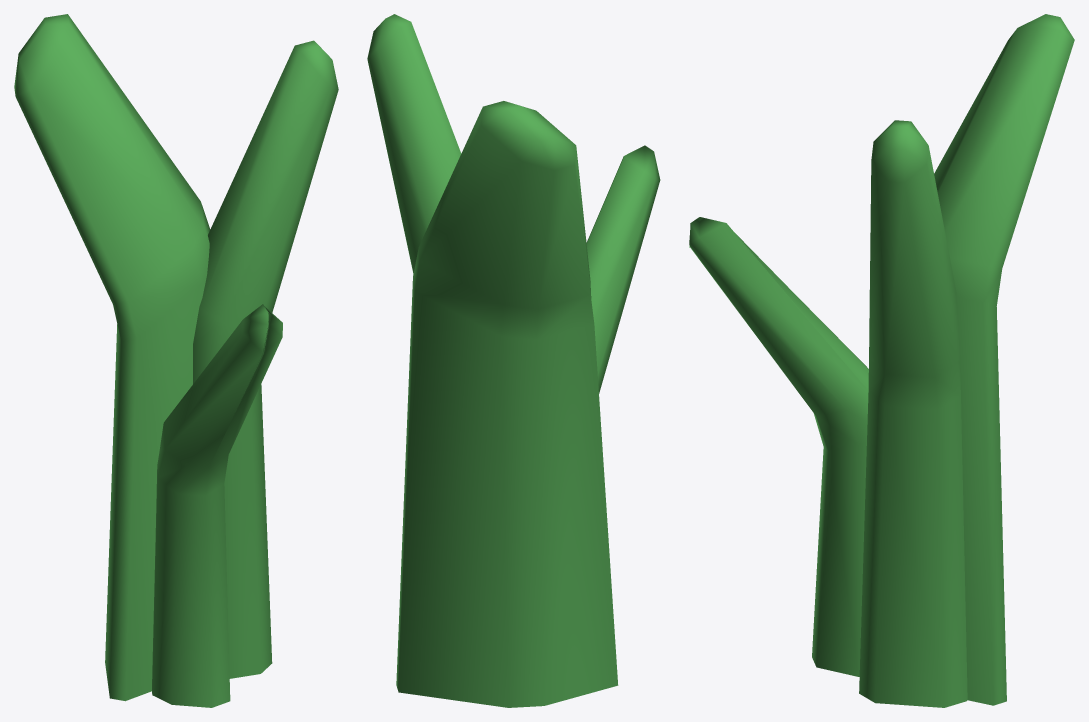
The model's file is grass.001.glb.
3 views of the same model, side by side, from view 1: azimuth 30°, elevation 25°; view 2: azimuth 150°, elevation 25°; view 3: azimuth 270°, elevation 25° (orthographic). The views are drawn at different scales.
Parts seen in each view (by area): view 1: grass.001; view 2: grass.001; view 3: grass.001.
Boxes of the visible parts, <box> form: grass.001: <box>14,14,338,707</box>; grass.001: <box>367,14,660,707</box>; grass.001: <box>689,14,1074,707</box>.
Bounding box in the file's own units: 0.2091 × 0.4734 × 0.2671.
